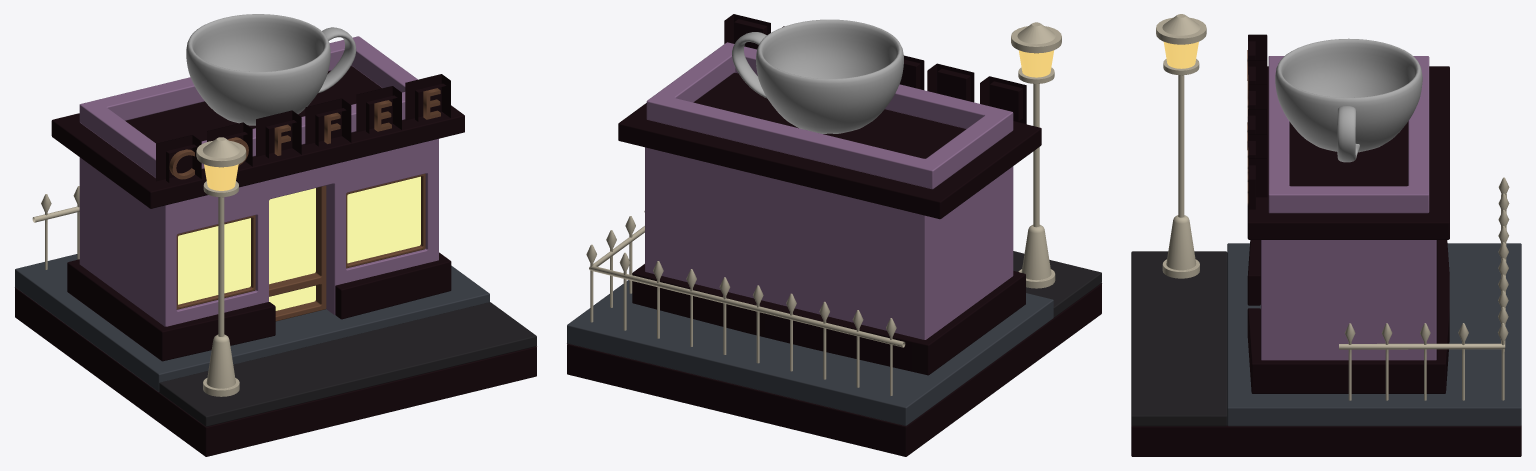
Rendered from dog.glb.
The picture shows the model from 3 angles, left to right: view 1: azimuth 30°, elevation 25°; view 2: azimuth 150°, elevation 25°; view 3: azimuth 270°, elevation 25°; orthographic projection. The views are drawn at different scales.
Visible parts, largest first — view 1: Plane004, Plane001, Plane, Plane005, Plane002, Circle, Plane017, Plane006, Circle002, Plane008, Plane007, Plane013 (+7 smaller); view 2: Plane004, Plane002, Plane005, Plane, Plane006, Circle, Plane017, Circle002, Plane010, Plane009, Plane001, Plane003 (+4 smaller); view 3: Plane002, Plane004, Plane001, Plane005, Circle, Plane, Plane017, Plane006, Circle002, Plane010, Plane009, Circle001 (+6 smaller).
Part boxes in pixels (left/top/right/bottom): Plane004: left=79, top=138, right=438, bottom=326; Plane001: left=159, top=302, right=536, bottom=426; Plane: left=15, top=287, right=536, bottom=456; Plane005: left=51, top=66, right=464, bottom=208; Plane002: left=15, top=254, right=489, bottom=391; Circle: left=186, top=14, right=330, bottom=125; Plane017: left=67, top=252, right=451, bottom=361; Plane006: left=79, top=36, right=417, bottom=177; Circle002: left=196, top=137, right=246, bottom=396; Plane008: left=269, top=185, right=326, bottom=321; Plane007: left=176, top=173, right=425, bottom=309; Plane013: left=305, top=98, right=351, bottom=146; Plane004: left=645, top=147, right=1013, bottom=339; Plane002: left=567, top=280, right=1053, bottom=425; Plane005: left=618, top=73, right=1041, bottom=219; Plane: left=567, top=283, right=1101, bottom=456; Plane006: left=646, top=42, right=1013, bottom=189; Circle: left=756, top=19, right=903, bottom=133; Plane017: left=632, top=264, right=1025, bottom=375; Circle002: left=1011, top=22, right=1061, bottom=288; Plane010: left=586, top=211, right=896, bottom=395; Plane009: left=589, top=226, right=905, bottom=347; Plane001: left=1013, top=251, right=1101, bottom=317; Plane003: left=980, top=76, right=1026, bottom=124; Plane002: left=1227, top=243, right=1521, bottom=426; Plane004: left=1261, top=240, right=1436, bottom=360; Plane001: left=1131, top=251, right=1227, bottom=426; Plane005: left=1247, top=66, right=1449, bottom=239; Circle: left=1275, top=38, right=1422, bottom=152; Plane: left=1131, top=425, right=1521, bottom=456; Plane017: left=1247, top=240, right=1449, bottom=393; Plane006: left=1268, top=56, right=1429, bottom=213; Circle002: left=1156, top=14, right=1206, bottom=278; Plane010: left=1345, top=177, right=1509, bottom=400; Plane009: left=1339, top=194, right=1506, bottom=349; Circle001: left=1337, top=105, right=1359, bottom=162.
Bounding box in the file's own units: 8 × 6.86 × 8.
